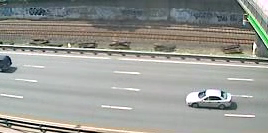car: (183, 87, 235, 113)
